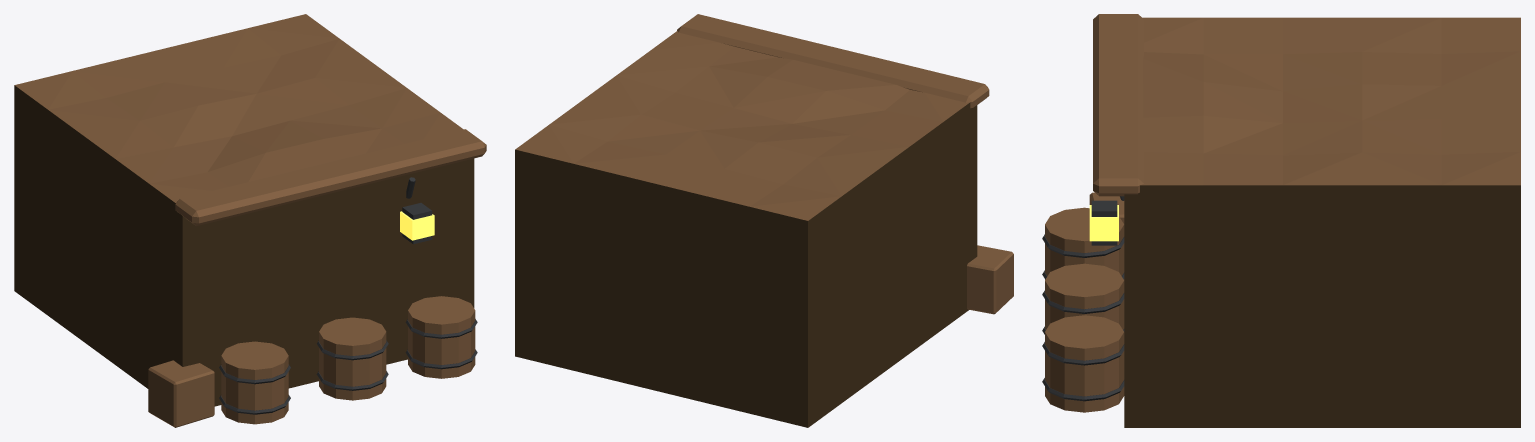
File: SM_Terrain_Tavern_02_Cliff.fbx
3 renders of one model, left to right at view 1: azimuth 30°, elevation 25°; view 2: azimuth 150°, elevation 25°; view 3: azimuth 270°, elevation 25°, orthographic. The views are drawn at different scales.
Parts seen in each view (by area): view 1: SM_Terrain_Tavern_02_Cliff_Wall, SM_Terrain_Tavern_02_Cliff_Lip, SM_Terrain_Tavern_02_Cliff_Barrel1, SM_Terrain_Tavern_02_Cliff_Barrel0, SM_Terrain_Tavern_02_Cliff_Barrel2, SM_Terrain_Tavern_02_Cliff_Crate, SM_Terrain_Tavern_02_Cliff_LanternGlass, SM_Terrain_Tavern_02_Cliff_LanternFrame; view 2: SM_Terrain_Tavern_02_Cliff_Wall, SM_Terrain_Tavern_02_Cliff_Lip, SM_Terrain_Tavern_02_Cliff_Crate; view 3: SM_Terrain_Tavern_02_Cliff_Wall, SM_Terrain_Tavern_02_Cliff_Lip, SM_Terrain_Tavern_02_Cliff_Barrel2, SM_Terrain_Tavern_02_Cliff_Barrel1, SM_Terrain_Tavern_02_Cliff_Barrel0, SM_Terrain_Tavern_02_Cliff_LanternGlass, SM_Terrain_Tavern_02_Cliff_LanternFrame, SM_Terrain_Tavern_02_Cliff_Hoop2A, SM_Terrain_Tavern_02_Cliff_Hoop2B, SM_Terrain_Tavern_02_Cliff_Hoop0B, SM_Terrain_Tavern_02_Cliff_Hoop1B.
Part boxes in pixels (<box>): SM_Terrain_Tavern_02_Cliff_Wall: <box>14,14,474,406</box>; SM_Terrain_Tavern_02_Cliff_Lip: <box>175,129,486,225</box>; SM_Terrain_Tavern_02_Cliff_Barrel1: <box>319,317,386,400</box>; SM_Terrain_Tavern_02_Cliff_Barrel0: <box>221,341,288,424</box>; SM_Terrain_Tavern_02_Cliff_Barrel2: <box>408,296,475,378</box>; SM_Terrain_Tavern_02_Cliff_Crate: <box>148,360,214,427</box>; SM_Terrain_Tavern_02_Cliff_LanternGlass: <box>400,211,434,240</box>; SM_Terrain_Tavern_02_Cliff_LanternFrame: <box>402,203,432,244</box>; SM_Terrain_Tavern_02_Cliff_Wall: <box>515,31,977,427</box>; SM_Terrain_Tavern_02_Cliff_Lip: <box>677,14,989,108</box>; SM_Terrain_Tavern_02_Cliff_Crate: <box>967,245,1013,314</box>; SM_Terrain_Tavern_02_Cliff_Wall: <box>1124,17,1520,427</box>; SM_Terrain_Tavern_02_Cliff_Lip: <box>1093,14,1143,196</box>; SM_Terrain_Tavern_02_Cliff_Barrel2: <box>1045,315,1124,412</box>; SM_Terrain_Tavern_02_Cliff_Barrel1: <box>1045,263,1124,329</box>; SM_Terrain_Tavern_02_Cliff_Barrel0: <box>1045,207,1124,279</box>; SM_Terrain_Tavern_02_Cliff_LanternGlass: <box>1089,205,1118,241</box>; SM_Terrain_Tavern_02_Cliff_LanternFrame: <box>1091,200,1117,245</box>; SM_Terrain_Tavern_02_Cliff_Hoop2A: <box>1042,378,1124,401</box>; SM_Terrain_Tavern_02_Cliff_Hoop2B: <box>1042,342,1124,365</box>; SM_Terrain_Tavern_02_Cliff_Hoop0B: <box>1042,234,1124,257</box>; SM_Terrain_Tavern_02_Cliff_Hoop1B: <box>1042,290,1124,313</box>.
Bounding box in the file's own units: 2.19 × 1.38 × 2.41.
